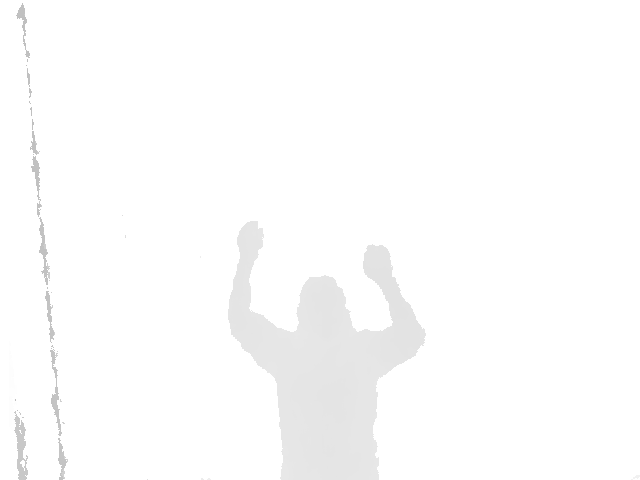hand: (362, 244, 394, 283), (236, 220, 264, 260)
head: (296, 274, 352, 348)
person: (226, 220, 427, 480)
